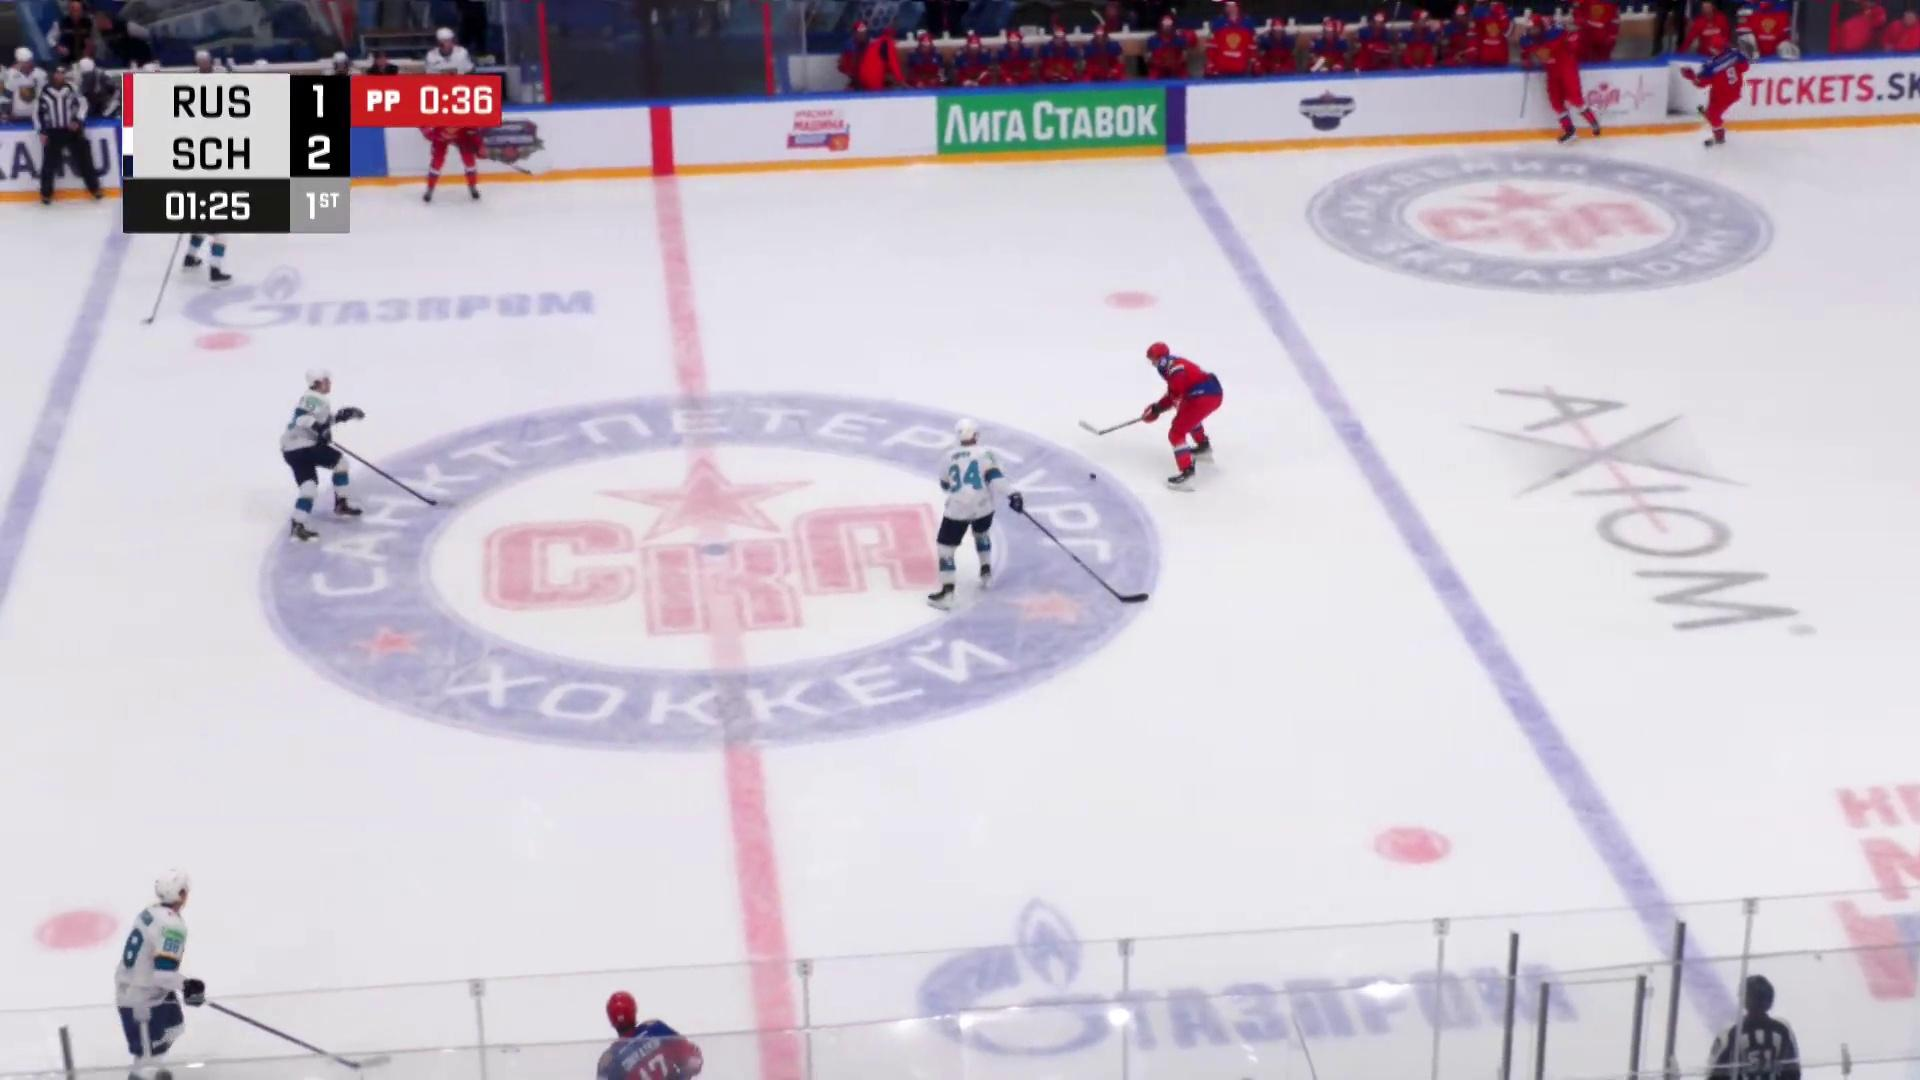ball: (1088, 473, 1097, 481)
